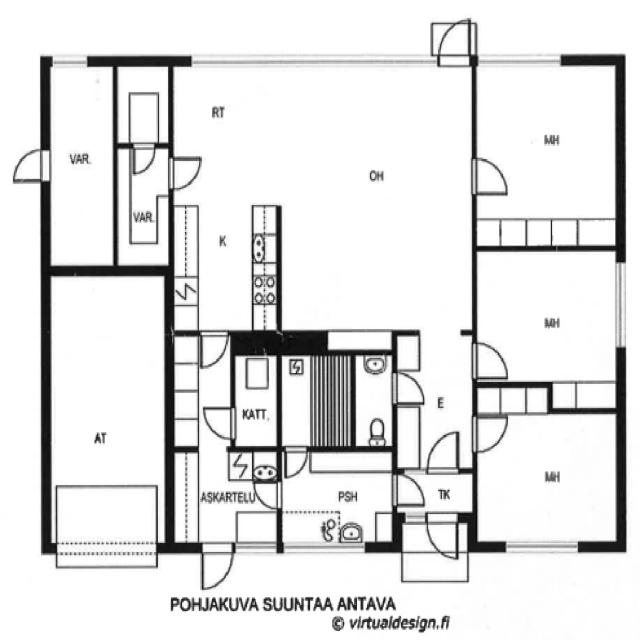door: (120, 141, 168, 265), (166, 129, 208, 227), (429, 16, 476, 71), (467, 151, 512, 200), (422, 510, 461, 566), (468, 336, 513, 382), (7, 143, 53, 188), (424, 427, 464, 475), (468, 412, 512, 455), (198, 542, 235, 592), (389, 367, 430, 407), (201, 403, 239, 444), (164, 154, 203, 193), (392, 470, 429, 510), (198, 330, 230, 371), (280, 443, 312, 481), (249, 478, 284, 512), (130, 141, 157, 178)
window: (475, 44, 567, 74), (609, 256, 633, 356), (499, 534, 586, 558), (281, 541, 370, 558), (46, 48, 97, 73)
zone: (200, 59, 468, 348), (47, 265, 171, 550), (171, 77, 280, 339), (471, 59, 620, 250), (473, 249, 621, 396), (473, 404, 622, 548), (47, 65, 117, 268), (278, 350, 395, 450), (280, 448, 394, 549), (166, 452, 276, 550), (120, 146, 169, 266), (113, 62, 172, 147), (234, 344, 277, 450)
